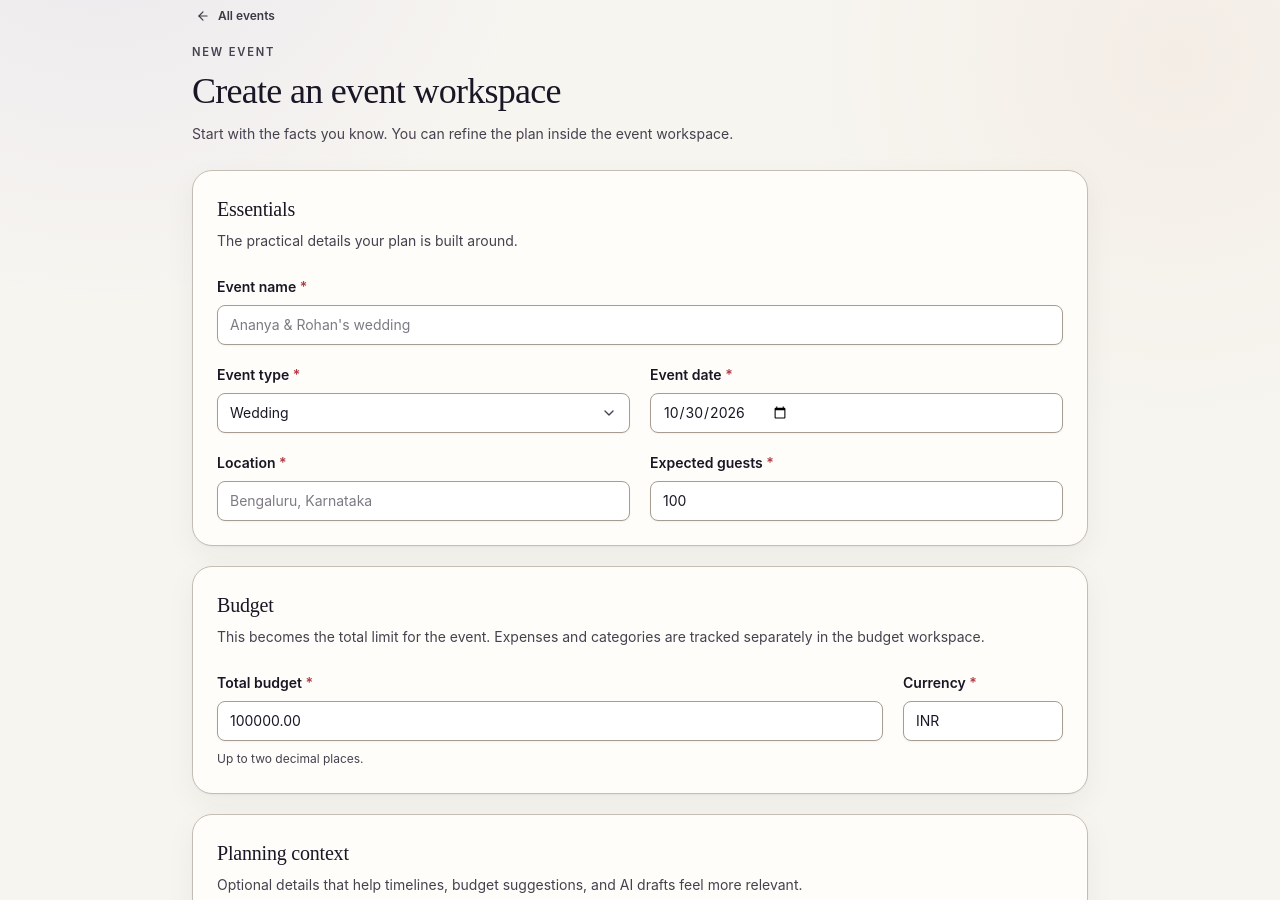
Test: event form pages › validates required create fields
The width and height of the screenshot is (1280, 900).
Clear the field labelled "Event name *" at (640, 325), box top-left (217, 305), bottom-right (1063, 345)
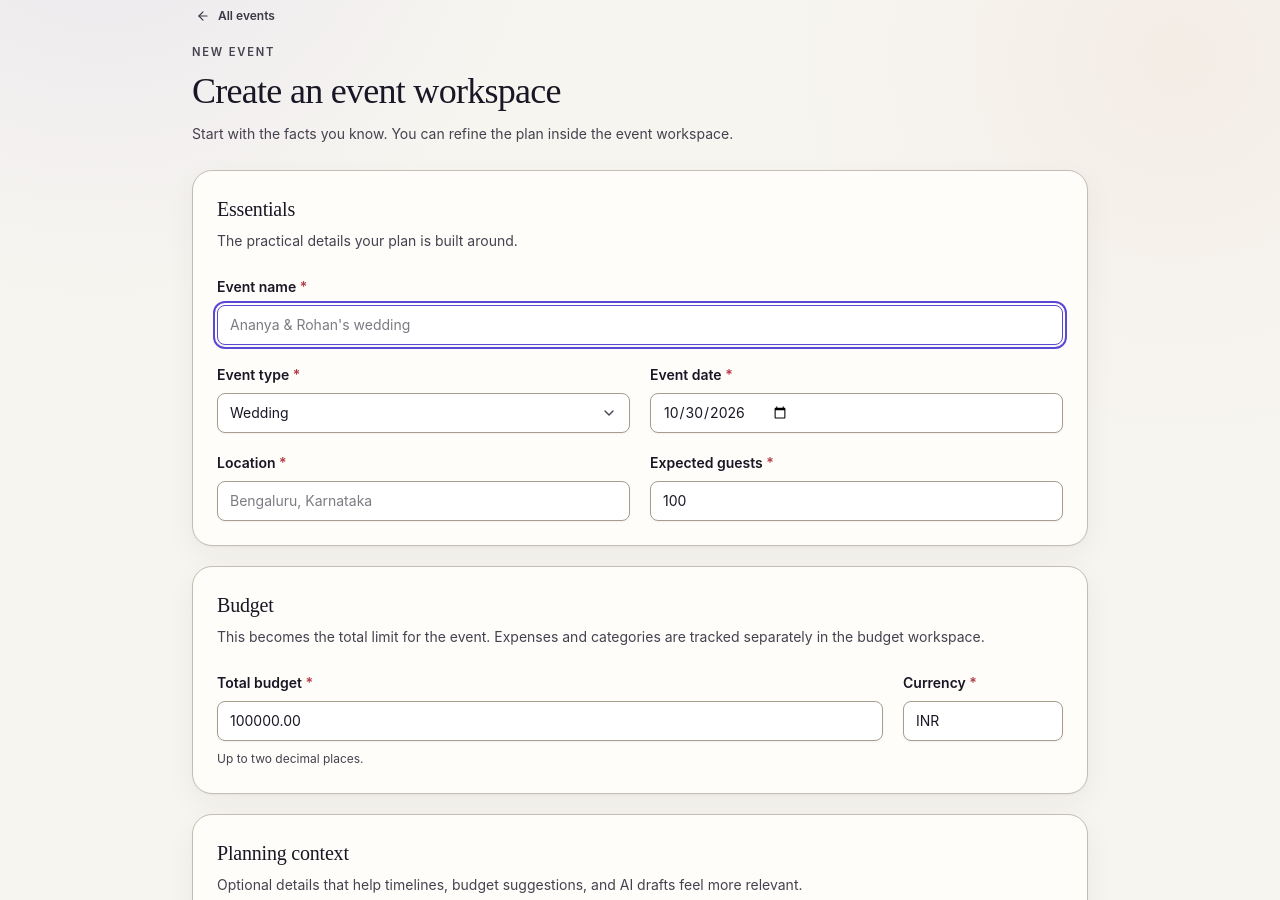
Clear the field labelled "Location *" at (424, 501), box top-left (217, 481), bottom-right (630, 521)
(page scrolled)
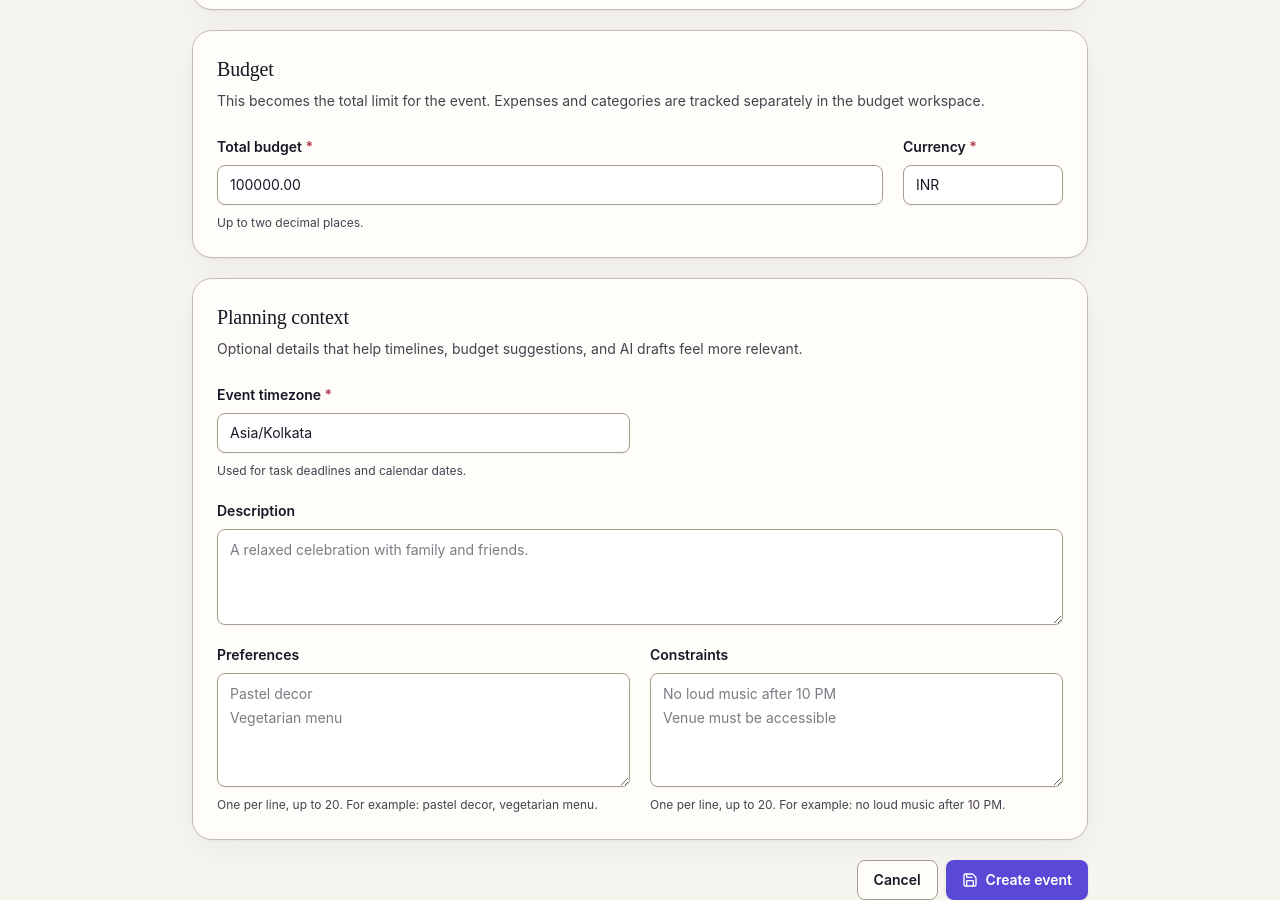
Click the button "Create event" at (1017, 880), box top-left (946, 860), bottom-right (1088, 899)
(page scrolled)
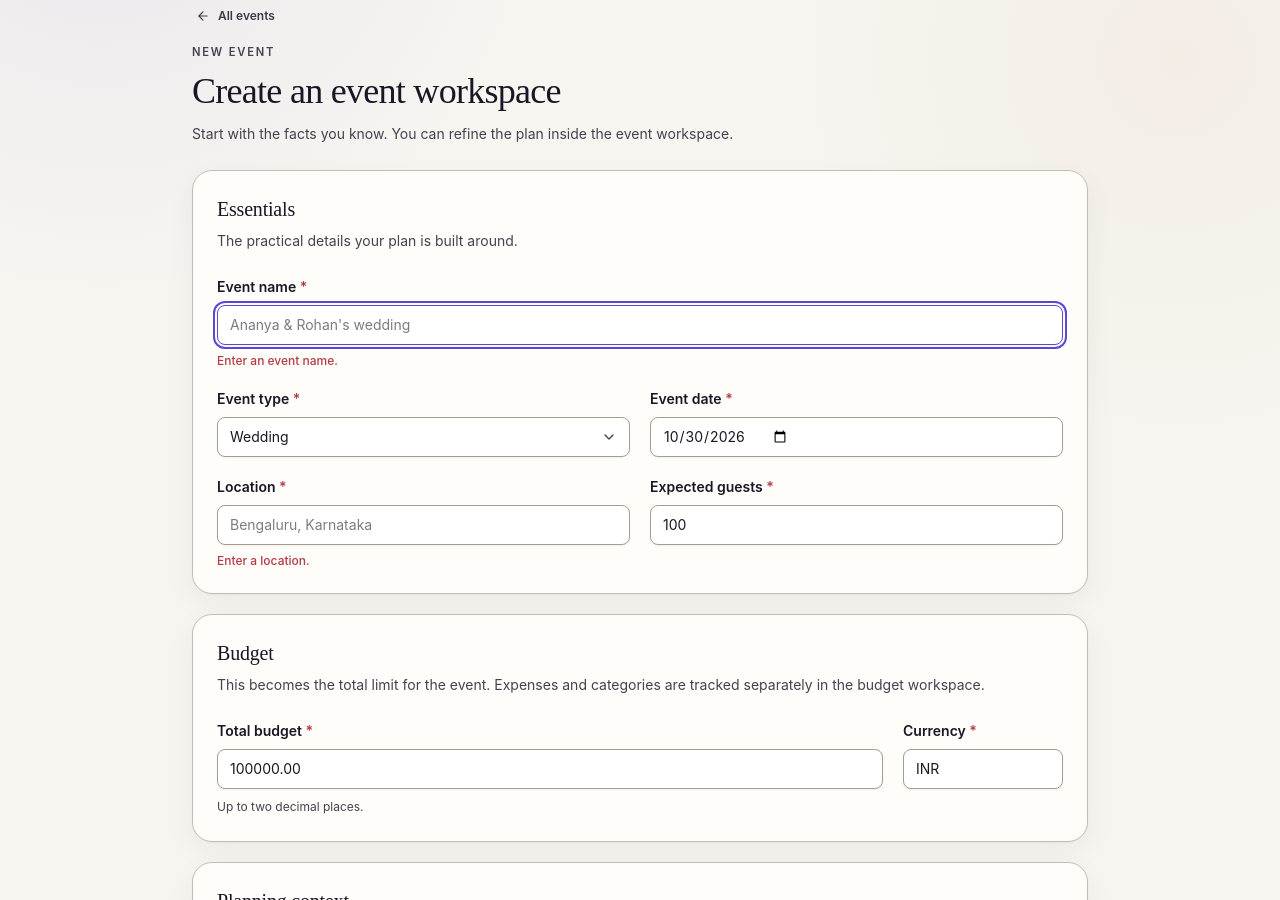
Expected: the text "Enter an event name." is shown, top-left (217, 353), bottom-right (338, 368)
Expected: the text "Enter a location." is shown, top-left (217, 553), bottom-right (310, 568)
